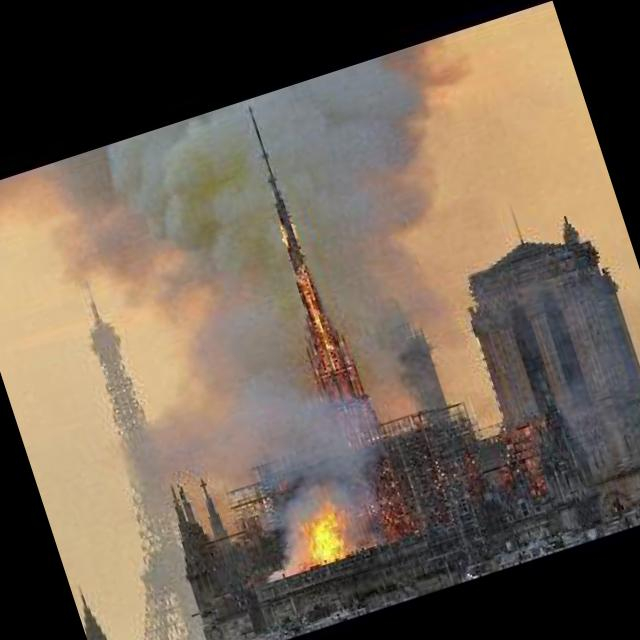fire: (278, 487, 358, 577)
smoke: (38, 37, 568, 540)
